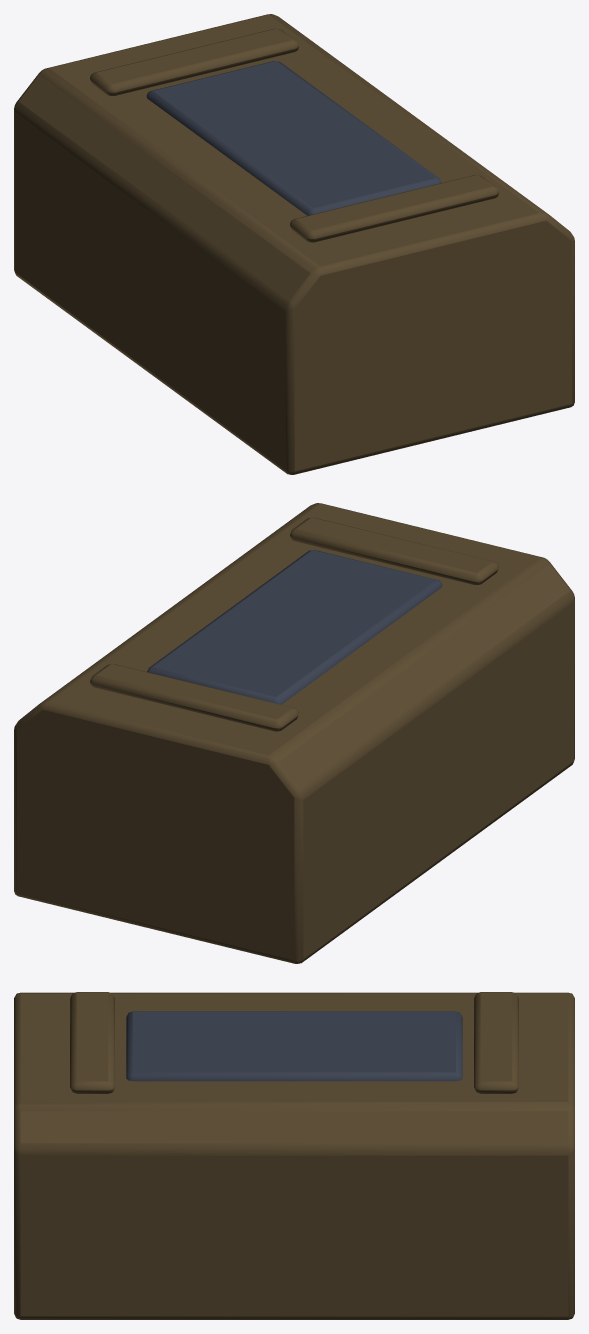
File: ware_bitumen.fbx
3 renders of one model, top to bottom at view 1: azimuth 30°, elevation 25°; view 2: azimuth 150°, elevation 25°; view 3: azimuth 270°, elevation 25°, orthographic.
Parts seen in each view (by area): view 1: ware_bitumen_Koerper; view 2: ware_bitumen_Koerper; view 3: ware_bitumen_Koerper.
Part boxes in pixels (<box>): ware_bitumen_Koerper: <box>14,14,574,474</box>; ware_bitumen_Koerper: <box>14,503,574,963</box>; ware_bitumen_Koerper: <box>14,992,574,1319</box>.
Bounding box in the file's own units: 0.3 × 0.211 × 0.5.
